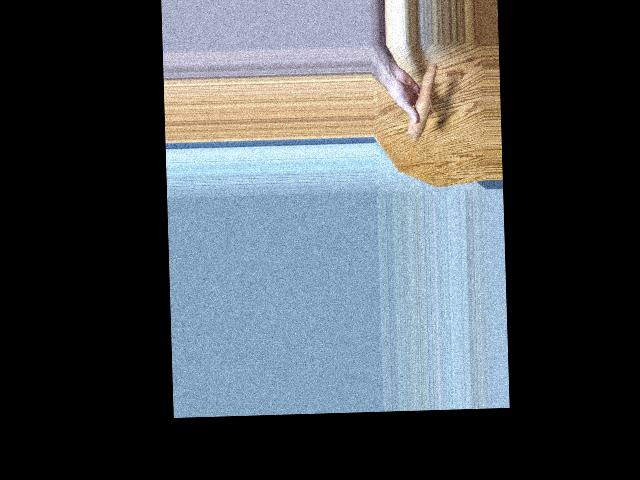sweet_potato: (409, 59, 433, 138)
